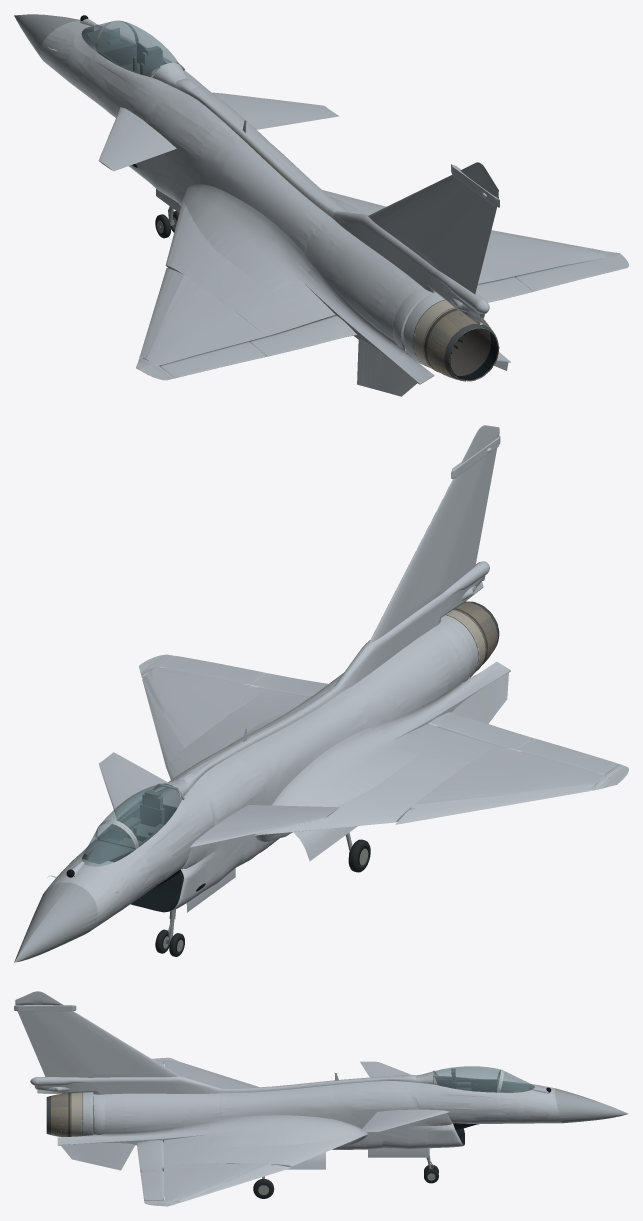
File: j10c-white.glb
3 views of the same model, one above another, from view 1: azimuth 30°, elevation 25°; view 2: azimuth 150°, elevation 25°; view 3: azimuth 270°, elevation 25° (orthographic). The views are drawn at different scales.
Parts seen in each view (by area): view 1: fuselage_mid, wing_L_fixed, fuselage_tail, fuselage_nose, fin, wing_R_fixed, canopy_glass, canard_L_skin, canard_R_skin, rudder_skin, elevon_L_inner_skin, ventral_fin_L (+13 smaller); view 2: fuselage_mid, wing_L_fixed, fuselage_tail, fuselage_nose, wing_R_fixed, fin, radome, canard_L_skin, canopy_glass, canard_R_skin, rudder_skin, leading_edge_flap_L_inner_skin (+14 smaller); view 3: fuselage_mid, fuselage_tail, fuselage_nose, wing_R_fixed, fin, rudder_skin, canopy_glass, radome, ventral_fin_R, canard_R_skin, fin_tip_and_tail_fittings, cockpit_tub (+12 smaller).
Part boxes in pixels (bbox=[...]): fuselage_mid: bbox=[144, 69, 367, 313]; wing_L_fixed: bbox=[152, 205, 335, 366]; fuselage_tail: bbox=[331, 212, 510, 384]; fuselage_nose: bbox=[40, 20, 238, 188]; fin: bbox=[368, 175, 484, 275]; wing_R_fixed: bbox=[322, 190, 605, 283]; canopy_glass: bbox=[98, 21, 177, 76]; canard_L_skin: bbox=[98, 107, 176, 171]; canard_R_skin: bbox=[212, 92, 339, 129]; rudder_skin: bbox=[447, 199, 496, 294]; elevon_L_inner_skin: bbox=[249, 315, 356, 356]; ventral_fin_L: bbox=[357, 339, 417, 396]; fuselage_mid: bbox=[157, 674, 425, 881]; wing_L_fixed: bbox=[287, 724, 605, 831]; fuselage_tail: bbox=[334, 562, 510, 724]; fuselage_nose: bbox=[47, 758, 239, 931]; wing_R_fixed: bbox=[142, 667, 309, 769]; fin: bbox=[368, 455, 487, 644]; radome: bbox=[14, 882, 97, 962]; canard_L_skin: bbox=[190, 805, 339, 847]; canopy_glass: bbox=[98, 784, 179, 846]; canard_R_skin: bbox=[98, 752, 167, 818]; rudder_skin: bbox=[452, 448, 497, 584]; leading_edge_flap_L_inner_skin: bbox=[331, 799, 471, 828]; fuselage_mid: bbox=[164, 1074, 429, 1149]; fuselage_tail: bbox=[37, 1076, 209, 1145]; fuselage_nose: bbox=[369, 1069, 562, 1148]; wing_R_fixed: bbox=[164, 1134, 347, 1200]; fin: bbox=[31, 1011, 180, 1077]; rudder_skin: bbox=[17, 1011, 77, 1077]; canopy_glass: bbox=[433, 1066, 500, 1092]; radome: bbox=[555, 1088, 628, 1123]; ventral_fin_R: bbox=[60, 1143, 135, 1170]; canard_R_skin: bbox=[360, 1109, 449, 1131]; fin_tip_and_tail_fittings: bbox=[14, 991, 76, 1091]; cockpit_tub: bbox=[435, 1079, 528, 1092].
Size of the model in its own units: 9.73 by 5.8 by 17.05.
